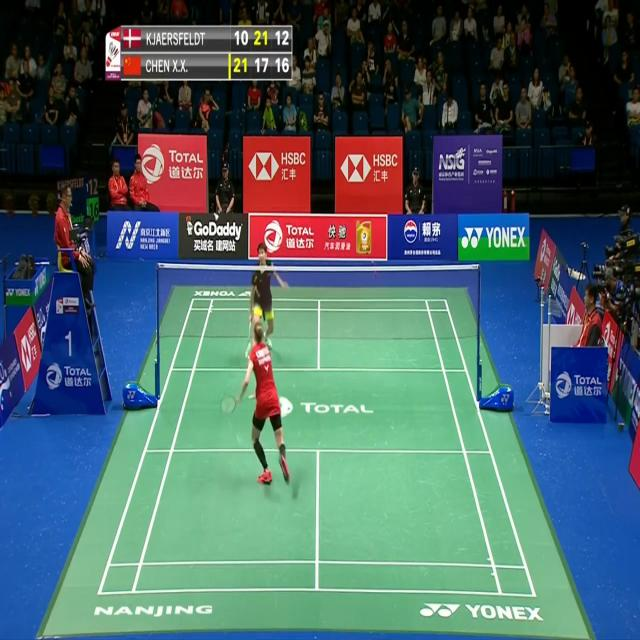Player1: (216, 321, 294, 491)
Player2: (240, 242, 292, 361)
